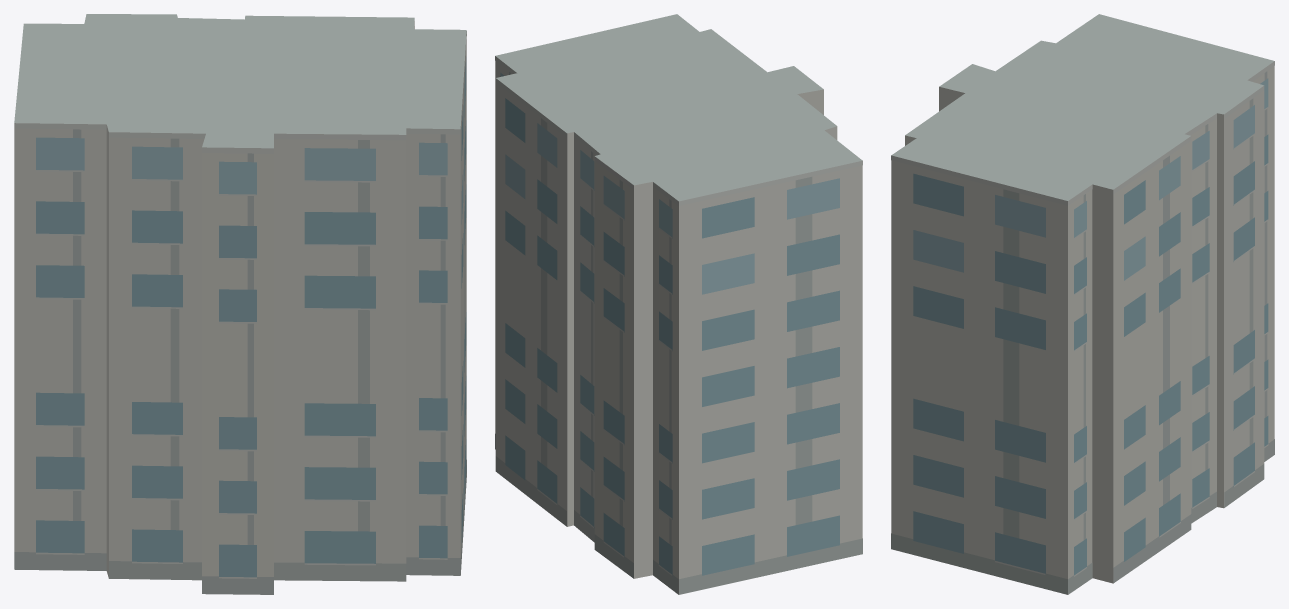
File: survey-upis-32687116.glb
The picture shows the model from 3 angles, left to right: view 1: azimuth 30°, elevation 25°; view 2: azimuth 150°, elevation 25°; view 3: azimuth 270°, elevation 25°; orthographic projection. The views are drawn at different scales.
Parts seen in each view (by area): view 1: survey-upis-32687116.tmp; view 2: survey-upis-32687116.tmp; view 3: survey-upis-32687116.tmp.
Boxes of the visible parts, <box> form: survey-upis-32687116.tmp: <box>14,14,466,594</box>; survey-upis-32687116.tmp: <box>495,14,862,594</box>; survey-upis-32687116.tmp: <box>891,14,1274,594</box>.
Size of the model in its own units: 20.29 by 19.9 by 17.58.
